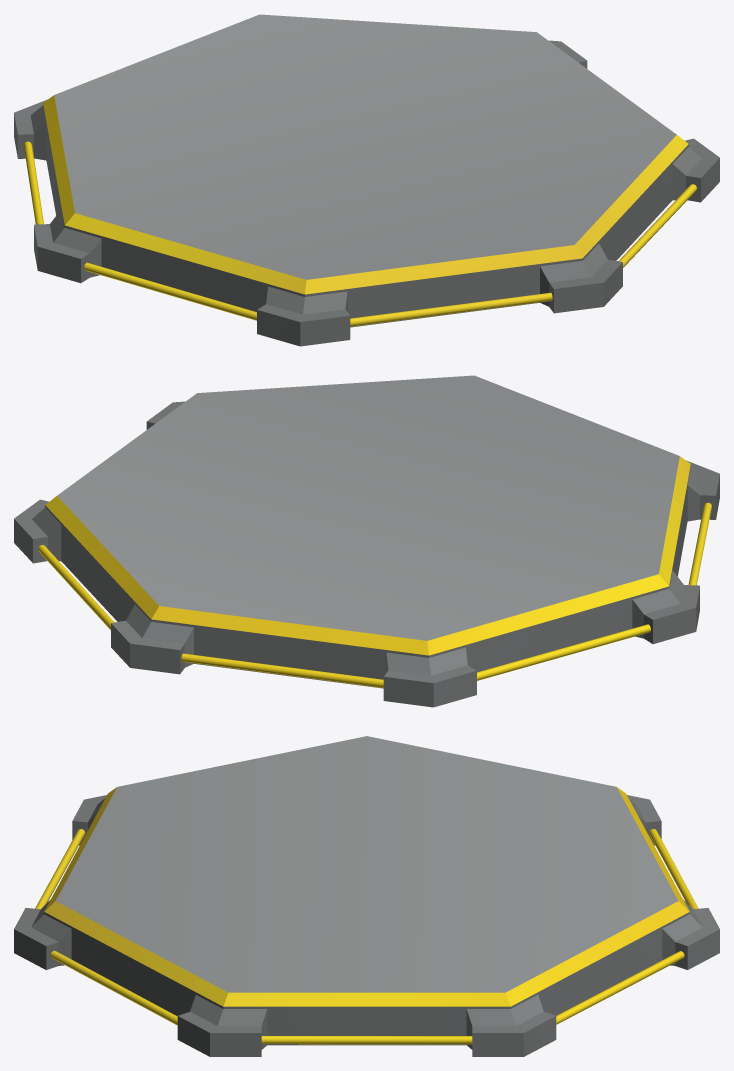
Rendered from Tank_platform.fbx.
The picture shows the model from 3 angles, top to bottom: view 1: azimuth 30°, elevation 25°; view 2: azimuth 150°, elevation 25°; view 3: azimuth 270°, elevation 25°; orthographic projection.
Visible parts, largest first — view 1: Tank_platform; view 2: Tank_platform; view 3: Tank_platform.
Part boxes in pixels (<box>): Tank_platform: <box>14,14,719,346</box>; Tank_platform: <box>14,375,719,707</box>; Tank_platform: <box>14,736,719,1056</box>.
Size of the model in its own units: 544 by 41.85 by 558.
